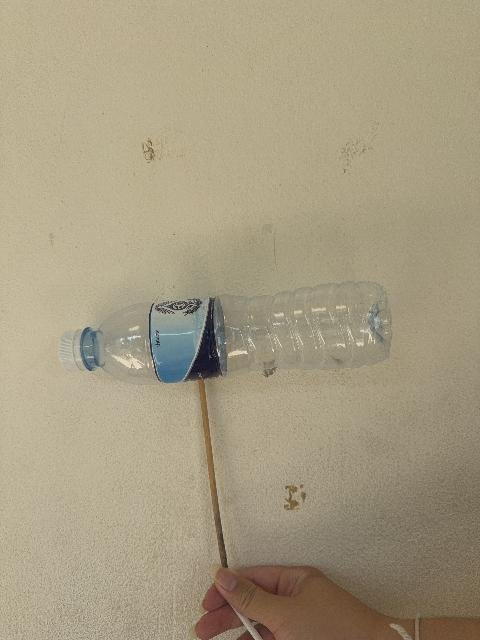bottle: (59, 282, 391, 384)
